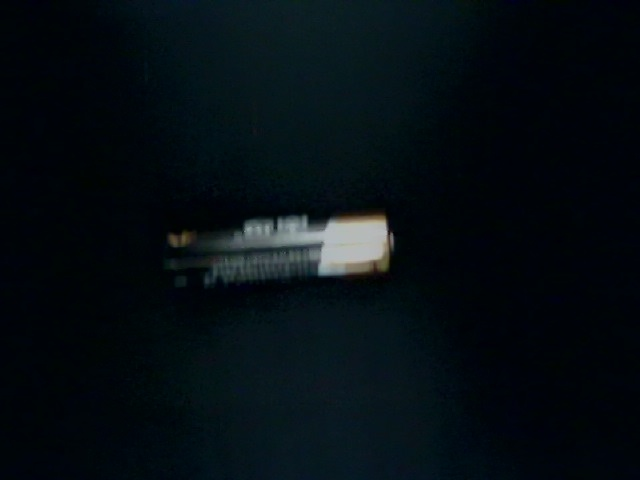QTLJ: (90, 381, 269, 480)
